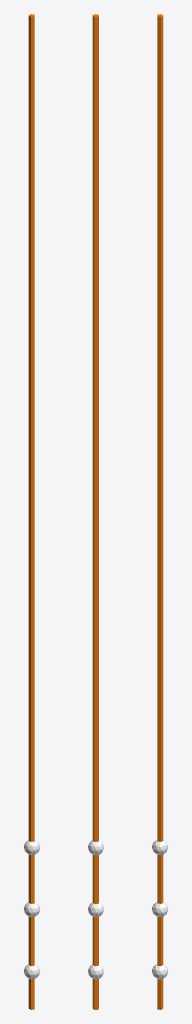
The model's file is RockClimbing_Rope.fbx.
3 views of the same model, side by side, from view 1: azimuth 90°, elevation 25°; view 2: azimuth 150°, elevation 25°; view 3: azimuth 270°, elevation 25° (orthographic).
Visible parts, largest first — view 1: Rope; view 2: Rope; view 3: Rope.
Part boxes in pixels (bbox=[...]): Rope: bbox=[24, 14, 39, 1009]; Rope: bbox=[88, 14, 103, 1009]; Rope: bbox=[152, 14, 167, 1009].
Bounding box in the file's own units: 0.1141 × 8 × 0.12.
